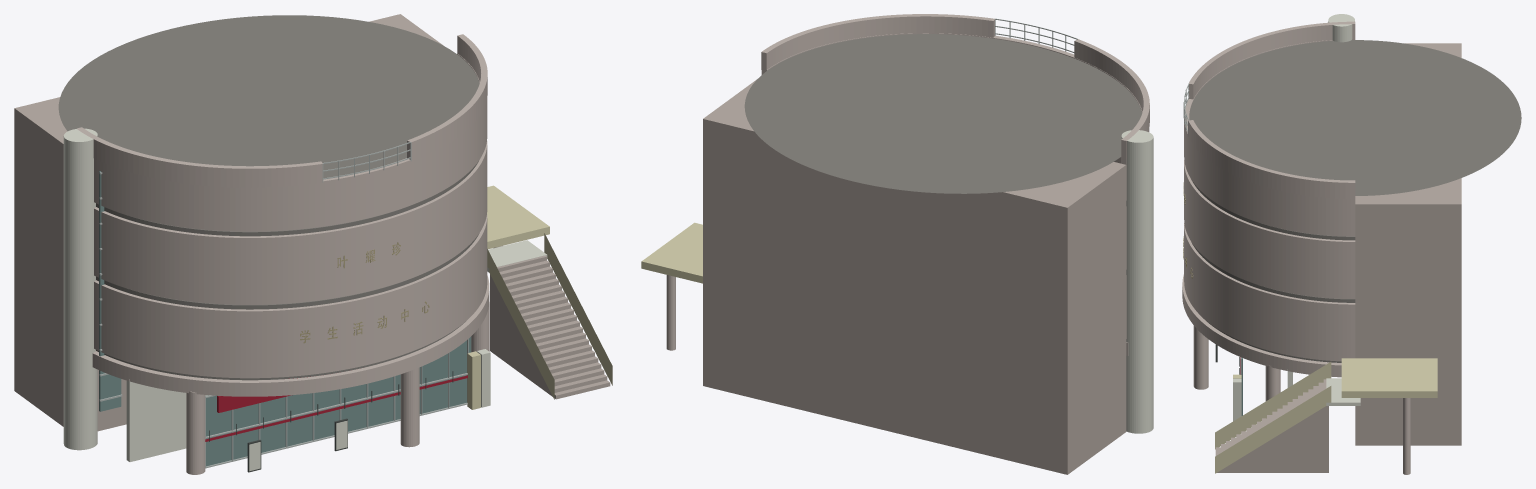
File: yeyaozhen-structure-near.glb
The picture shows the model from 3 angles, left to right: view 1: azimuth 30°, elevation 25°; view 2: azimuth 150°, elevation 25°; view 3: azimuth 270°, elevation 25°; orthographic projection. The views are drawn at different scales.
Parts seen in each view (by area): view 1: curved ceramic facade, roof deck, inferred rear volume, shop glass storefront, left pale vertical stair tower, side exterior staircase, roof parapet left, deep horizontal reveal, ground floor shop back, round ceramic shop columns, sloping yellow stair parapets, roof parapet right (+9 smaller); view 2: inferred rear volume, roof deck, left pale vertical stair tower, roof parapet right, side connecting canopy, roof parapet left, curved ceramic facade, canopy round columns; view 3: roof deck, curved ceramic facade, inferred rear volume, side exterior staircase, sloping yellow stair parapets, side connecting canopy, roof parapet right, roof parapet left, deep horizontal reveal, round ceramic shop columns, canopy round columns, left pale vertical stair tower (+2 smaller).
Part boxes in pixels (x1=…): curved ceramic facade: x1=92, y1=53, x2=489, y2=396; roof deck: x1=58, y1=15, x2=479, y2=178; inferred rear volume: x1=14, y1=14, x2=443, y2=431; shop glass storefront: x1=205, y1=336, x2=471, y2=466; left pale vertical stair tower: x1=63, y1=128, x2=97, y2=450; side exterior staircase: x1=490, y1=255, x2=610, y2=399; roof parapet left: x1=76, y1=127, x2=322, y2=187; deep horizontal reveal: x1=96, y1=161, x2=479, y2=380; ground floor shop back: x1=126, y1=378, x2=271, y2=461; round ceramic shop columns: x1=186, y1=302, x2=489, y2=474; sloping yellow stair parapets: x1=487, y1=233, x2=612, y2=399; roof parapet right: x1=407, y1=34, x2=487, y2=160; inferred rear volume: x1=703, y1=79, x2=1126, y2=474; roof deck: x1=744, y1=34, x2=1142, y2=193; left pale vertical stair tower: x1=1121, y1=130, x2=1153, y2=433; roof parapet right: x1=761, y1=14, x2=994, y2=70; side connecting canopy: x1=641, y1=222, x2=702, y2=283; roof parapet left: x1=1074, y1=39, x2=1149, y2=158; curved ceramic facade: x1=761, y1=33, x2=1149, y2=355; canopy round columns: x1=666, y1=275, x2=675, y2=350; roof deck: x1=1189, y1=40, x2=1521, y2=195; curved ceramic facade: x1=1182, y1=39, x2=1355, y2=377; inferred rear volume: x1=1355, y1=43, x2=1461, y2=445; side exterior staircase: x1=1215, y1=379, x2=1328, y2=472; sloping yellow stair parapets: x1=1215, y1=362, x2=1331, y2=473; side connecting canopy: x1=1341, y1=358, x2=1437, y2=397; roof parapet right: x1=1188, y1=120, x2=1355, y2=198; roof parapet left: x1=1189, y1=21, x2=1355, y2=99; deep horizontal reveal: x1=1191, y1=179, x2=1355, y2=362; round ceramic shop columns: x1=1193, y1=325, x2=1280, y2=401; canopy round columns: x1=1403, y1=398, x2=1410, y2=474; left pale vertical stair tower: x1=1328, y1=14, x2=1354, y2=42.
Bounding box in the file's own units: 20.06 × 12.22 × 14.26.
